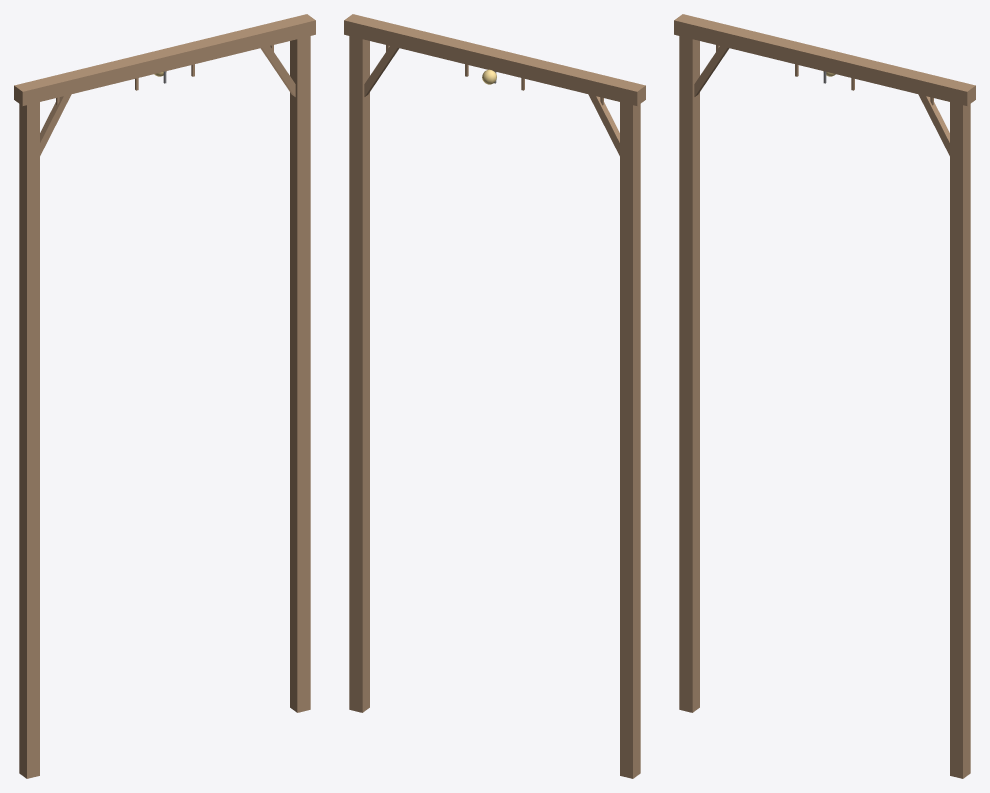
Rendered from MinecartMayhemSign.glb.
3 renders of one model, left to right at view 1: azimuth 30°, elevation 25°; view 2: azimuth 150°, elevation 25°; view 3: azimuth 330°, elevation 25°, orthographic.
Visible parts, largest first — view 1: Timber; view 2: Timber; view 3: Timber.
Part boxes in pixels (x1,y1,x2,y2): Timber: [14, 14, 315, 778]; Timber: [344, 14, 645, 778]; Timber: [674, 14, 975, 778].
Size of the model in its own units: 15.6 by 35.03 by 1.23.
